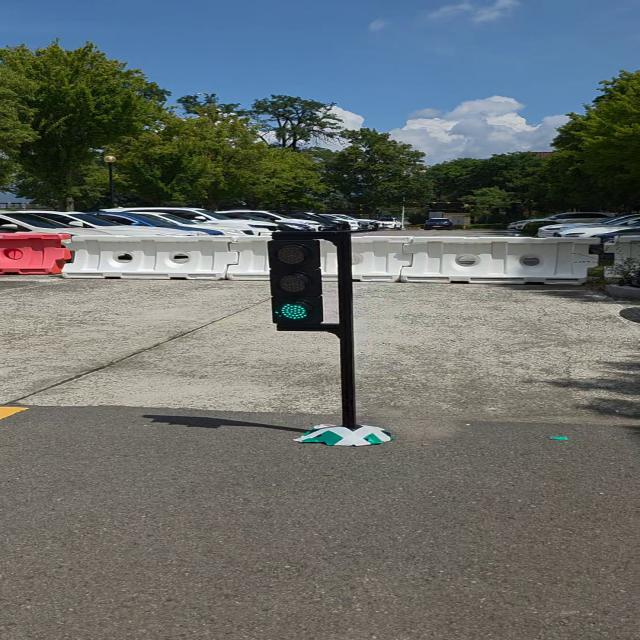green: (266, 233, 324, 334)
